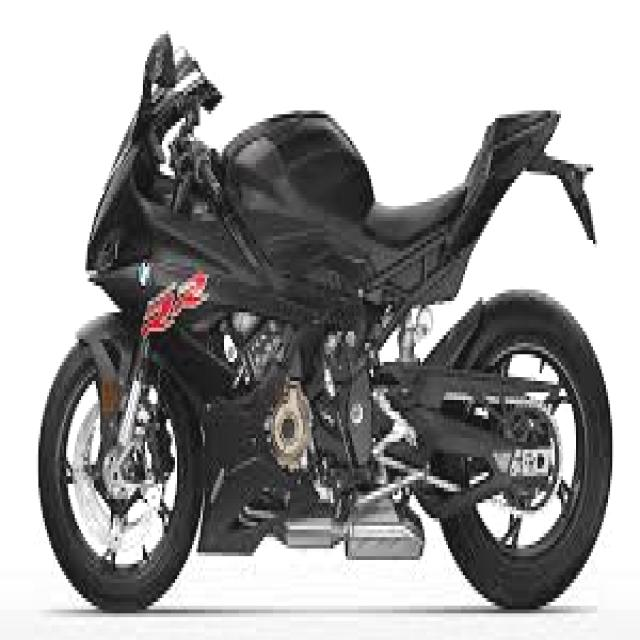MOTORCYCLE: (31, 99, 607, 612)
